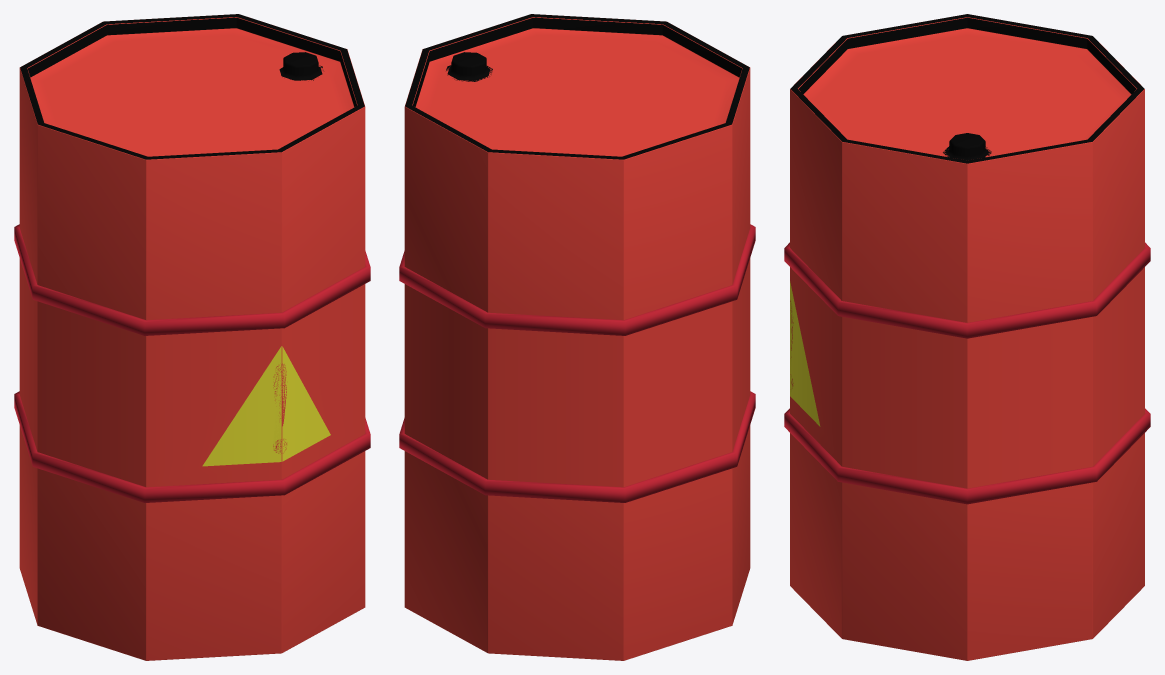
The model's file is Drum.fbx.
3 renders of one model, left to right at view 1: azimuth 30°, elevation 25°; view 2: azimuth 150°, elevation 25°; view 3: azimuth 270°, elevation 25°, orthographic.
Parts seen in each view (by area): view 1: Drum; view 2: Drum; view 3: Drum.
Part boxes in pixels (x1=…): Drum: x1=14, y1=14, x2=370, y2=660; Drum: x1=399, y1=14, x2=755, y2=660; Drum: x1=784, y1=14, x2=1150, y2=660.
Size of the model in its own units: 2.06 by 3.1 by 2.06.
1 material, 1 textured.
